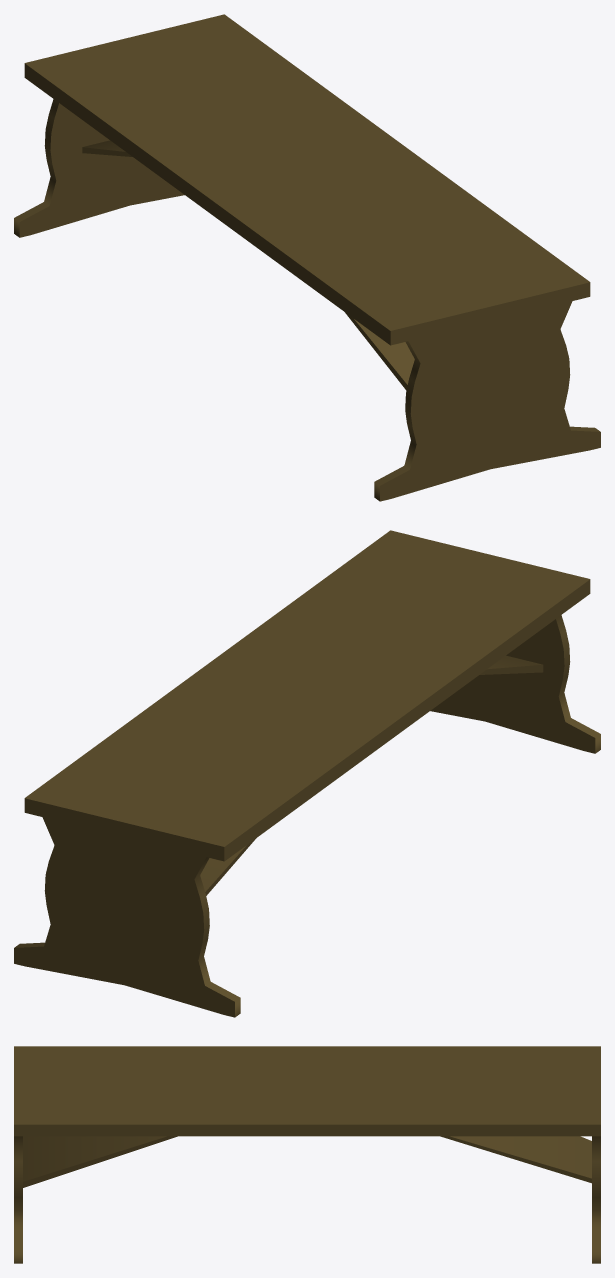
The model's file is Table.fbx.
3 renders of one model, top to bottom at view 1: azimuth 30°, elevation 25°; view 2: azimuth 150°, elevation 25°; view 3: azimuth 270°, elevation 25°, orthographic. The views are drawn at different scales.
Parts seen in each view (by area): view 1: Table; view 2: Table; view 3: Table.
Boxes of the visible parts, <box> form: Table: <box>14,14,600,501</box>; Table: <box>14,530,600,1017</box>; Table: <box>14,1046,600,1263</box>.
Size of the model in its own units: 284 by 207 by 816.
